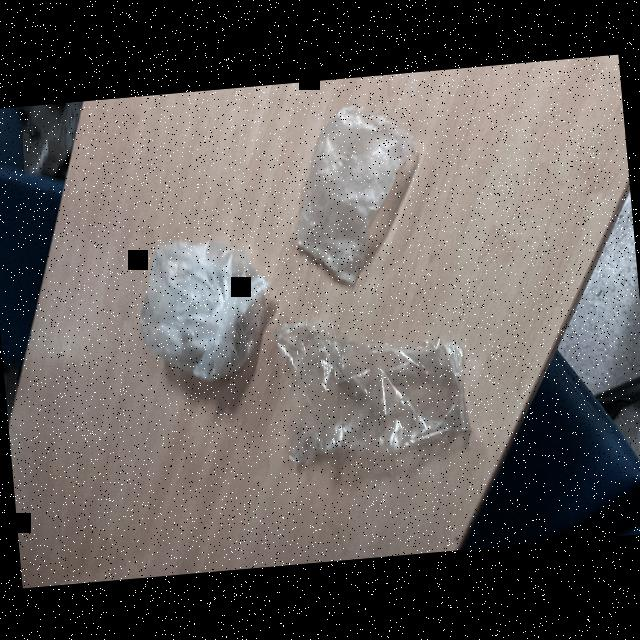plastic_bag: (125, 217, 288, 397)
scrap_plastic: (263, 294, 487, 491), (262, 94, 450, 295)
